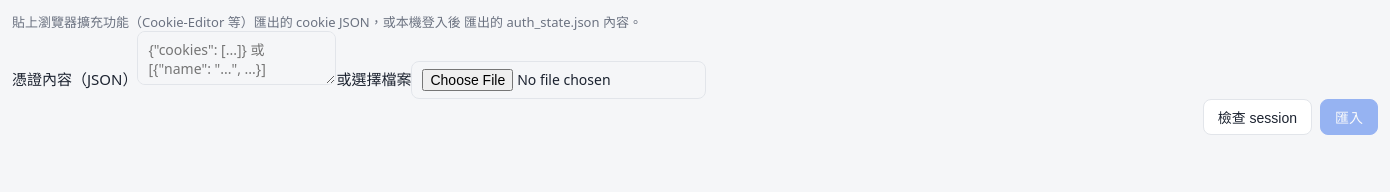
Test: LoginSettingsSection › shows a warning line when the import result carries one
In the text box labelled "憑證內容（JSON）": (237, 58) [138, 31, 336, 85], type "[]"
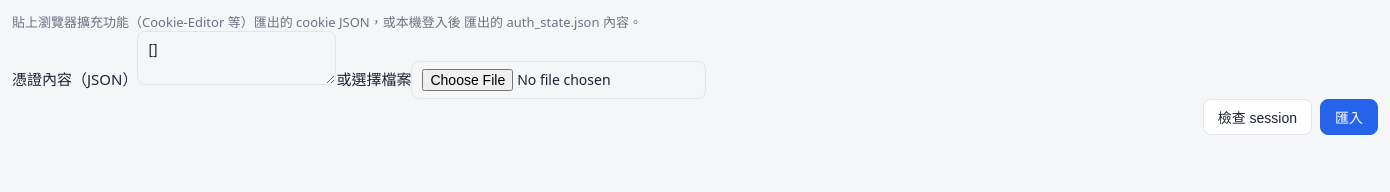
Click the button "匯入": (1349, 117) [1320, 99, 1378, 135]
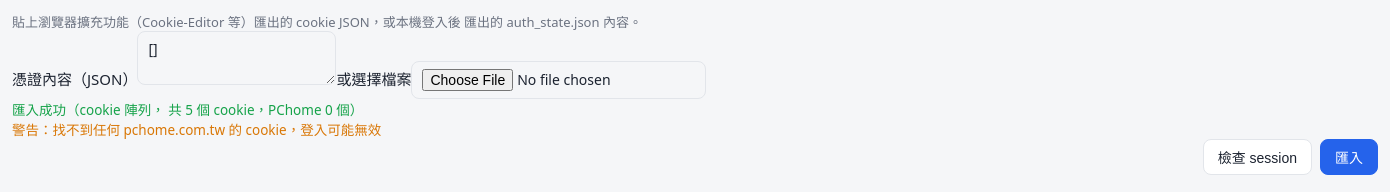
Result: the text "警告：找不到任何 pchome.com.tw 的 cookie，登入可能無效" is shown at [12, 121, 381, 139]
